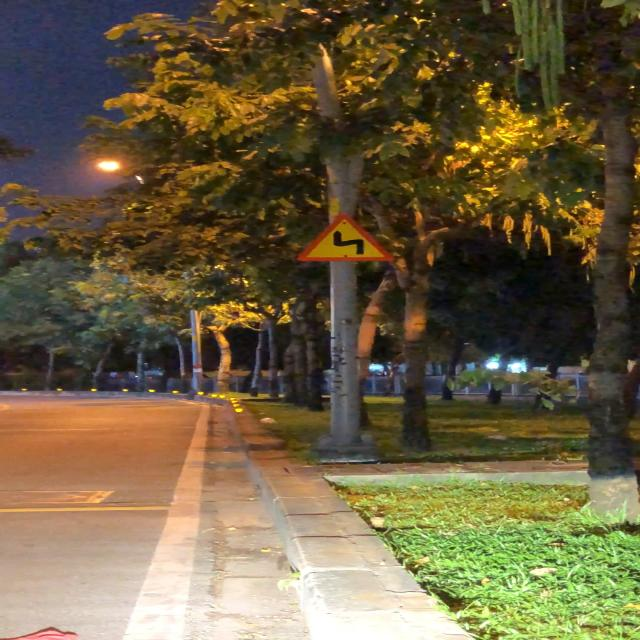Bien bao nhieu cho ngoat nguy hiem lien tiep: (292, 212, 396, 264)
